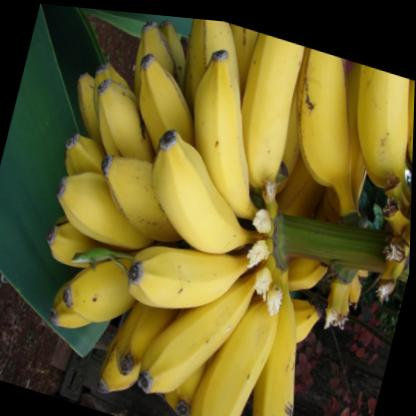---: (130, 107, 277, 264), (133, 238, 262, 416), (268, 37, 391, 211), (114, 194, 259, 335), (218, 23, 315, 197), (183, 272, 288, 416), (237, 278, 334, 416)
